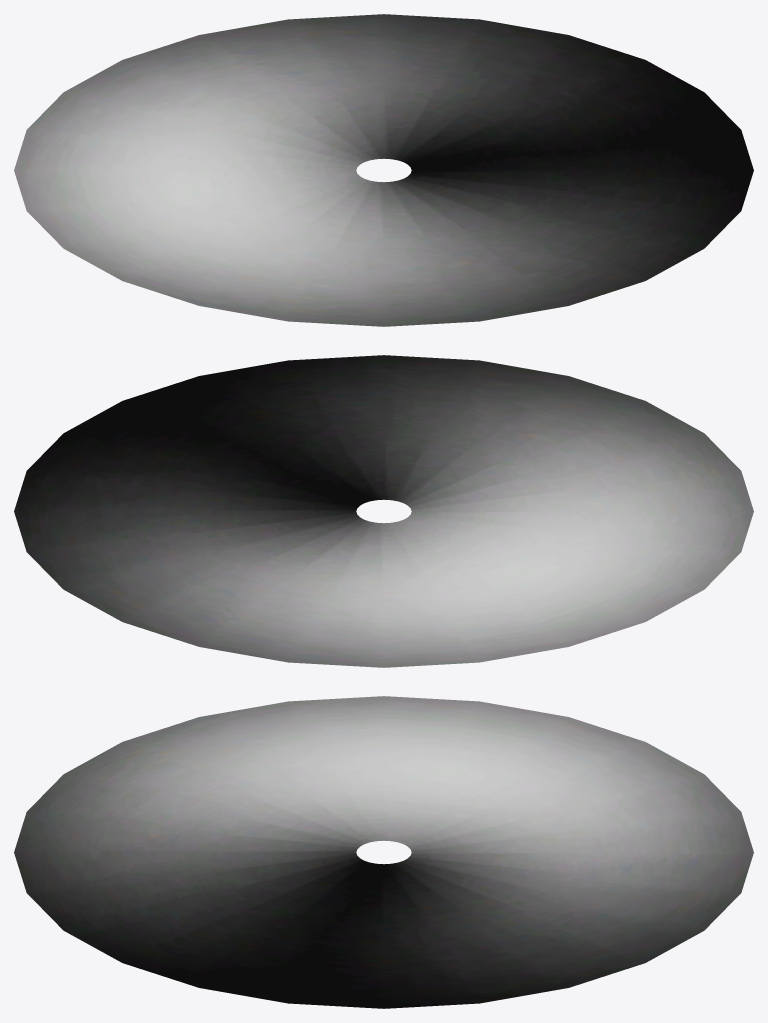
The model's file is vfx_kurp_1049.dae.
The picture shows the model from 3 angles, top to bottom: view 1: azimuth 30°, elevation 25°; view 2: azimuth 150°, elevation 25°; view 3: azimuth 270°, elevation 25°; orthographic projection.
Parts seen in each view (by area): view 1: vfx_kurp_1049; view 2: vfx_kurp_1049; view 3: vfx_kurp_1049.
Boxes of the visible parts, x1,y1,x2,y2 form: vfx_kurp_1049: (14,14,753,326); vfx_kurp_1049: (14,355,753,667); vfx_kurp_1049: (14,696,753,1008).
Bounding box in the file's own units: 5.1 × 5.1 × 2.84e-07.
1 material, 1 textured.
